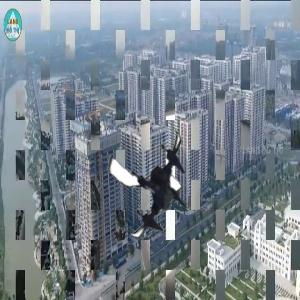drone: (99, 130, 209, 240)
